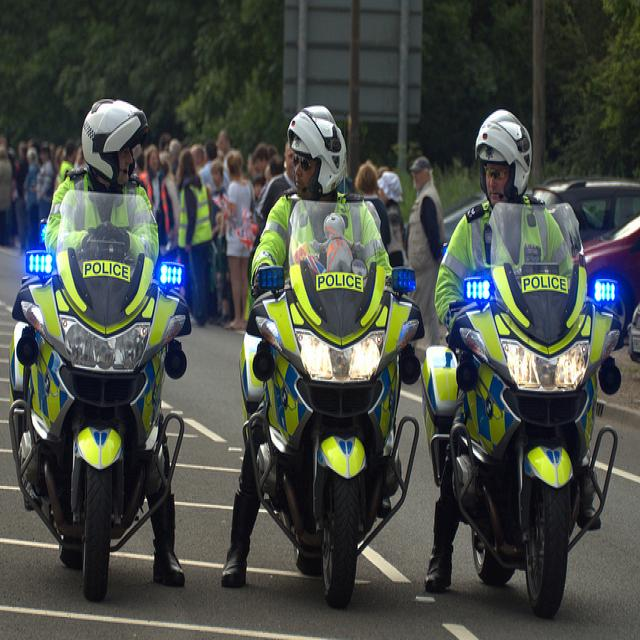motor: (1, 187, 195, 607), (236, 192, 425, 611), (456, 200, 626, 613)
